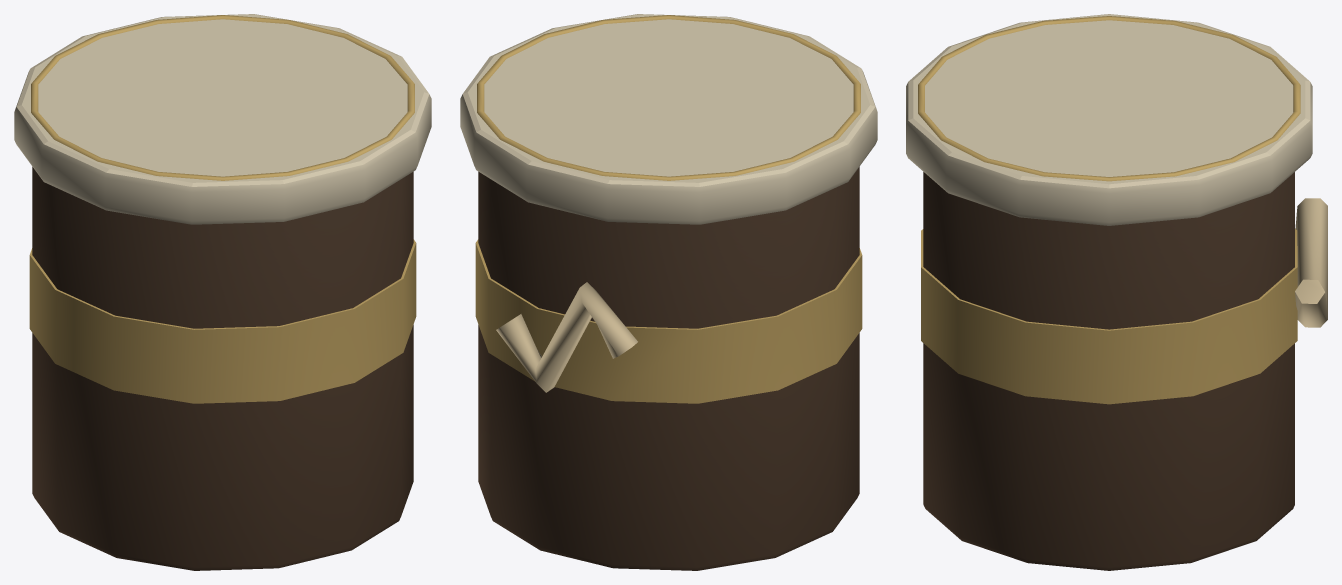
File: bait_premium.glb
3 renders of one model, left to right at view 1: azimuth 30°, elevation 25°; view 2: azimuth 150°, elevation 25°; view 3: azimuth 270°, elevation 25°, orthographic.
Size of the model in its own units: 0.164 by 0.1717 by 0.1659.
